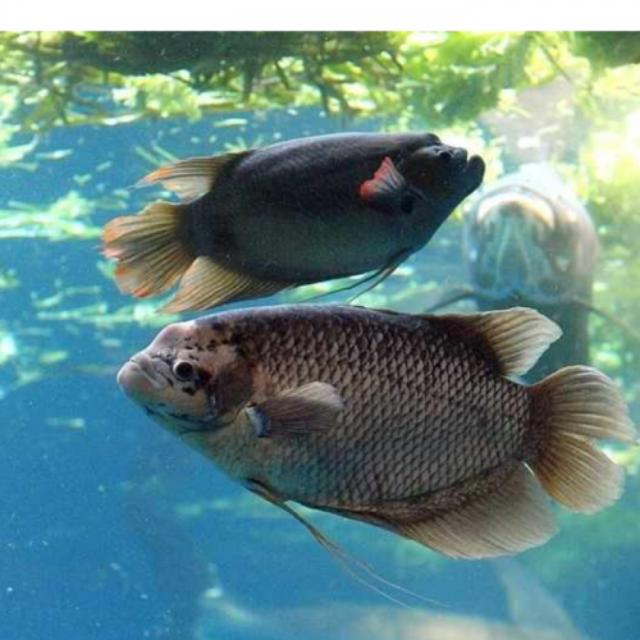Mulut: (101, 342, 189, 422), (448, 127, 506, 195)
Sirip Anal: (356, 461, 584, 569), (146, 252, 306, 326)
Sirip Dada: (229, 370, 355, 460), (342, 151, 438, 227)
Sirip Ekor: (522, 350, 640, 526), (91, 196, 195, 304)
Sirip Perut: (228, 467, 374, 577), (354, 229, 434, 301)
Sirip Punggung: (116, 141, 288, 217), (437, 294, 569, 390)
